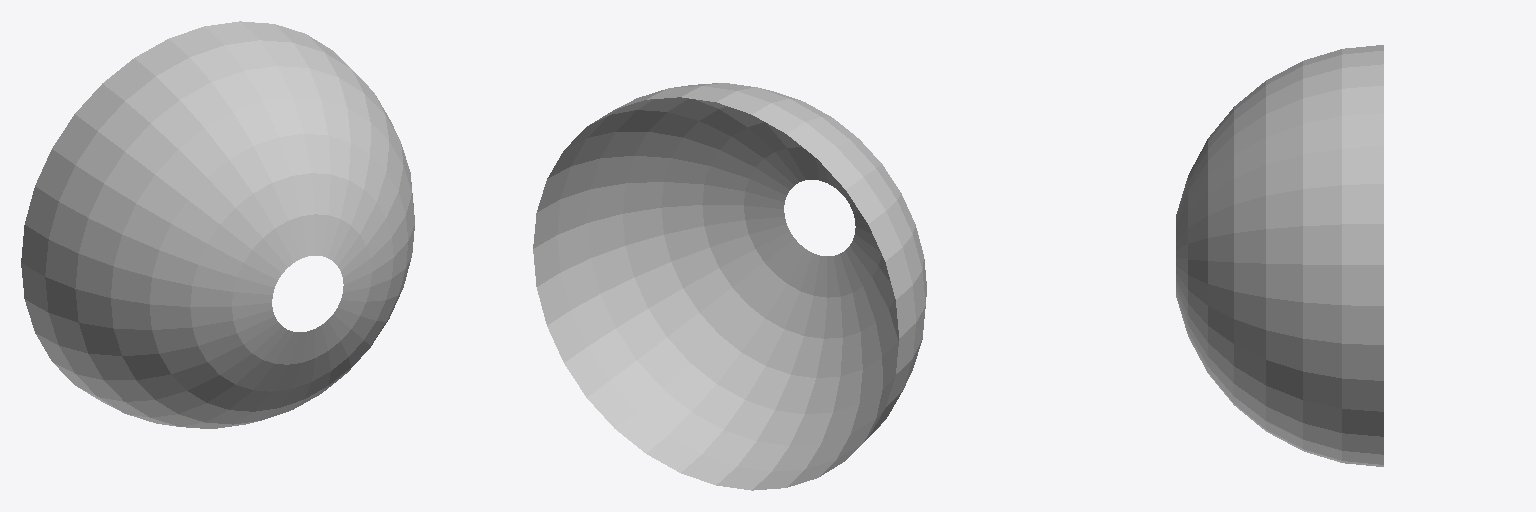
The model's file is dome.obj.
3 renders of one model, left to right at view 1: azimuth 30°, elevation 25°; view 2: azimuth 150°, elevation 25°; view 3: azimuth 270°, elevation 25°, orthographic.
Parts seen in each view (by area): view 1: Sphere; view 2: Sphere; view 3: Sphere.
Boxes of the visible parts, x1=… form: Sphere: x1=21, y1=21, x2=414, y2=428; Sphere: x1=533, y1=83, x2=926, y2=490; Sphere: x1=1176, y1=45, x2=1383, y2=466.
Size of the model in its own units: 2 by 2 by 0.9808.